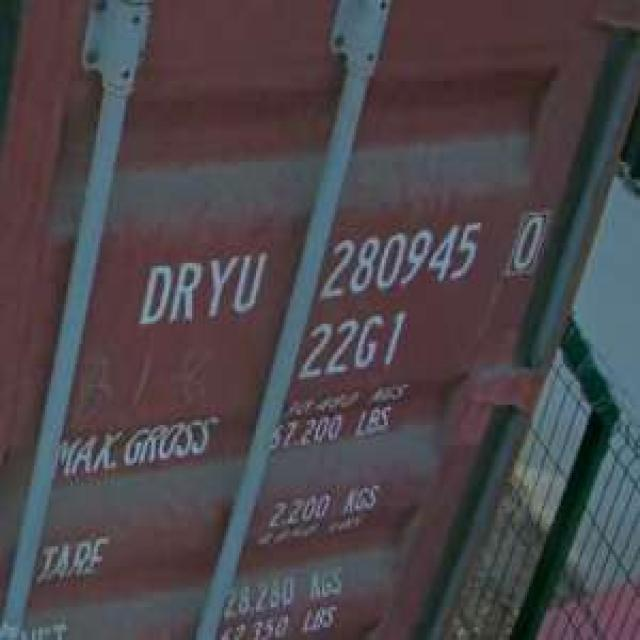dv: (506, 200, 550, 288)
owner: (136, 244, 268, 334)
serial: (314, 217, 483, 302)
size: (292, 308, 416, 383)
